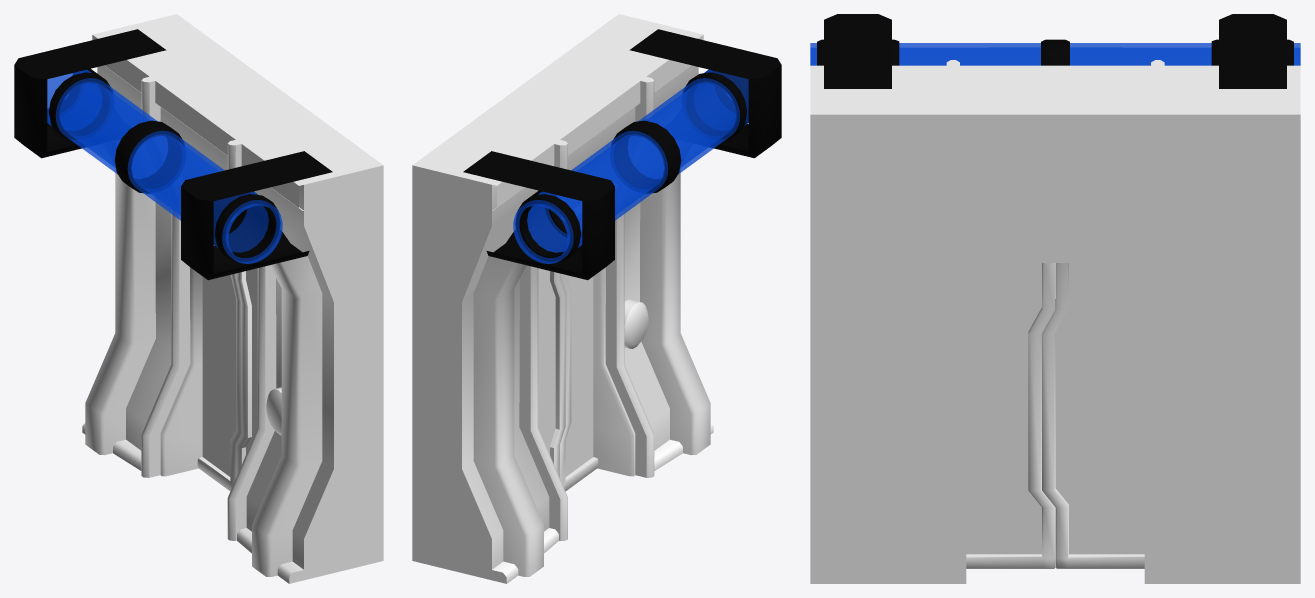
The model's file is DoorClosed.fbx.
3 renders of one model, left to right at view 1: azimuth 30°, elevation 25°; view 2: azimuth 150°, elevation 25°; view 3: azimuth 270°, elevation 25°, orthographic. The views are drawn at different scales.
Parts seen in each view (by area): view 1: Door; view 2: Door; view 3: Door.
Boxes of the visible parts, bbox=[...] form: Door: bbox=[14, 14, 383, 583]; Door: bbox=[412, 14, 781, 583]; Door: bbox=[810, 14, 1300, 583].
Bounding box in the file's own units: 1.75 × 3.8 × 3.6.
